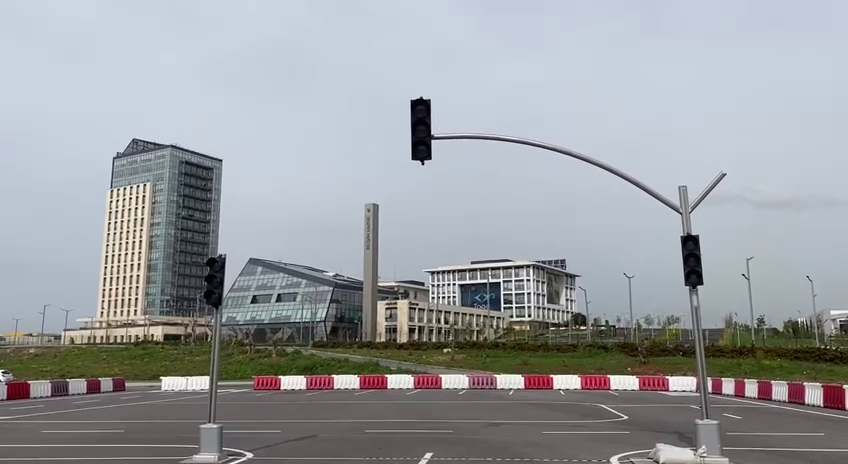trafficLight: (404, 96, 436, 167), (676, 232, 707, 293), (200, 251, 229, 312)
